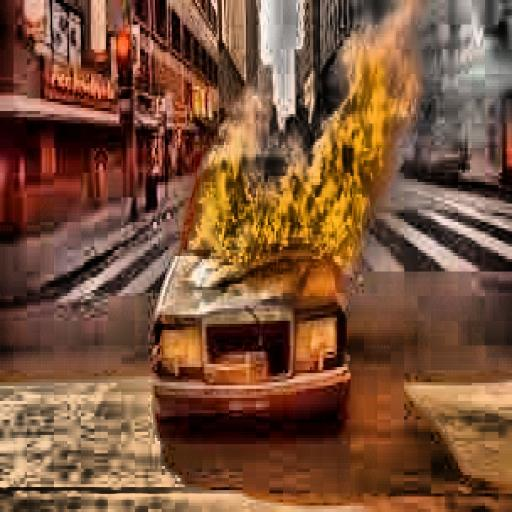fire: (192, 50, 421, 266)
